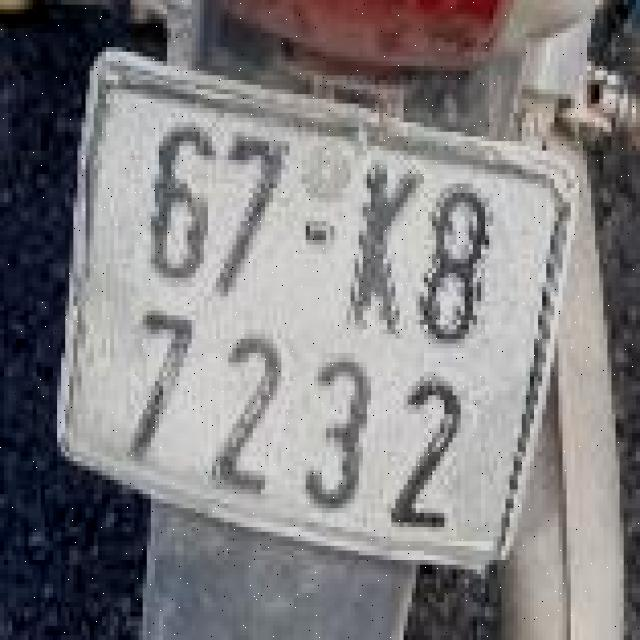2: (389, 364, 463, 544), (214, 327, 287, 506)
3: (304, 350, 377, 510)
6: (132, 111, 214, 294), (130, 290, 204, 478)
7: (212, 118, 293, 306)
8: (422, 165, 499, 358)
K: (340, 148, 422, 336)
